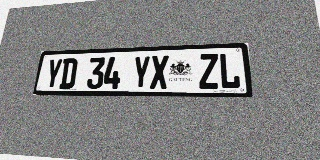3: (86, 57, 105, 89)
4: (103, 57, 122, 89)
D: (59, 58, 78, 89)
L: (219, 53, 241, 89)
X: (150, 55, 169, 89)
Y: (132, 56, 151, 89), (44, 59, 63, 89)
Z: (199, 53, 219, 89)
